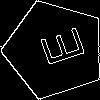E: (30, 24, 86, 72)
